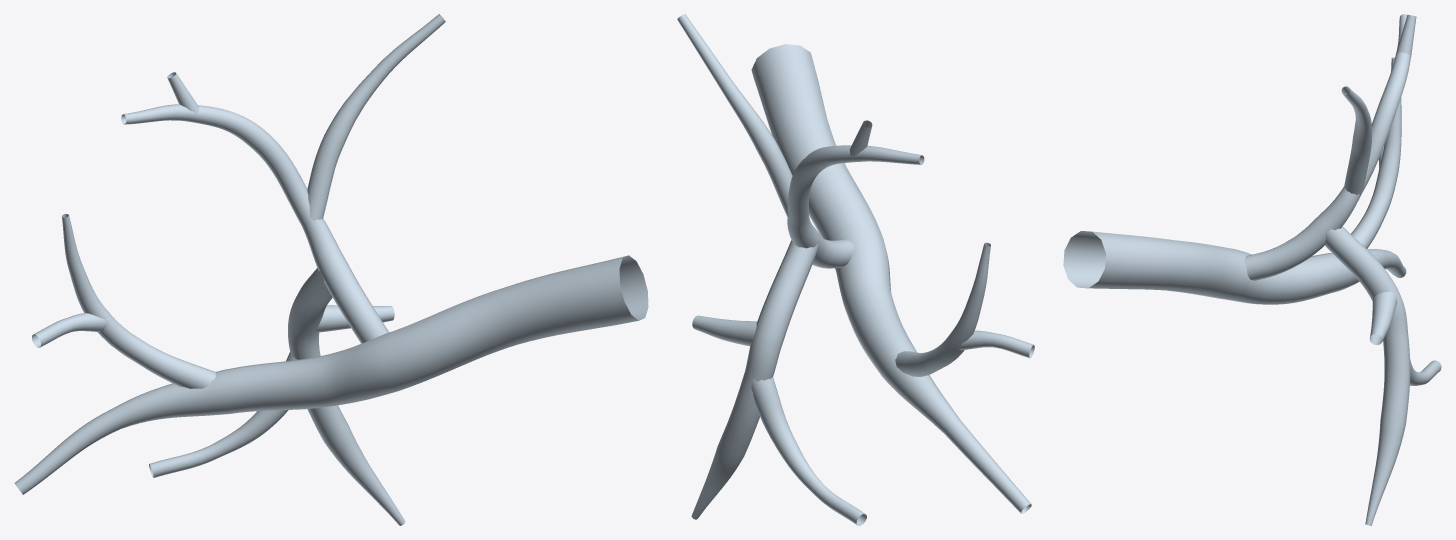
Rendered from visceras-superior-segmental-bronchus-of-right-lung-bvi.glb.
3 renders of one model, left to right at view 1: azimuth 30°, elevation 25°; view 2: azimuth 150°, elevation 25°; view 3: azimuth 270°, elevation 25°, orthographic. The views are drawn at different scales.
Visible parts, largest first — view 1: Superior segmental bronchus of right lung (BVI); view 2: Superior segmental bronchus of right lung (BVI); view 3: Superior segmental bronchus of right lung (BVI).
Boxes of the visible parts, x1=… form: Superior segmental bronchus of right lung (BVI): x1=14, y1=14, x2=648, y2=525; Superior segmental bronchus of right lung (BVI): x1=677, y1=14, x2=1034, y2=525; Superior segmental bronchus of right lung (BVI): x1=1063, y1=14, x2=1441, y2=525.
Size of the model in its own units: 0.0713 by 0.0759 by 0.0577.
